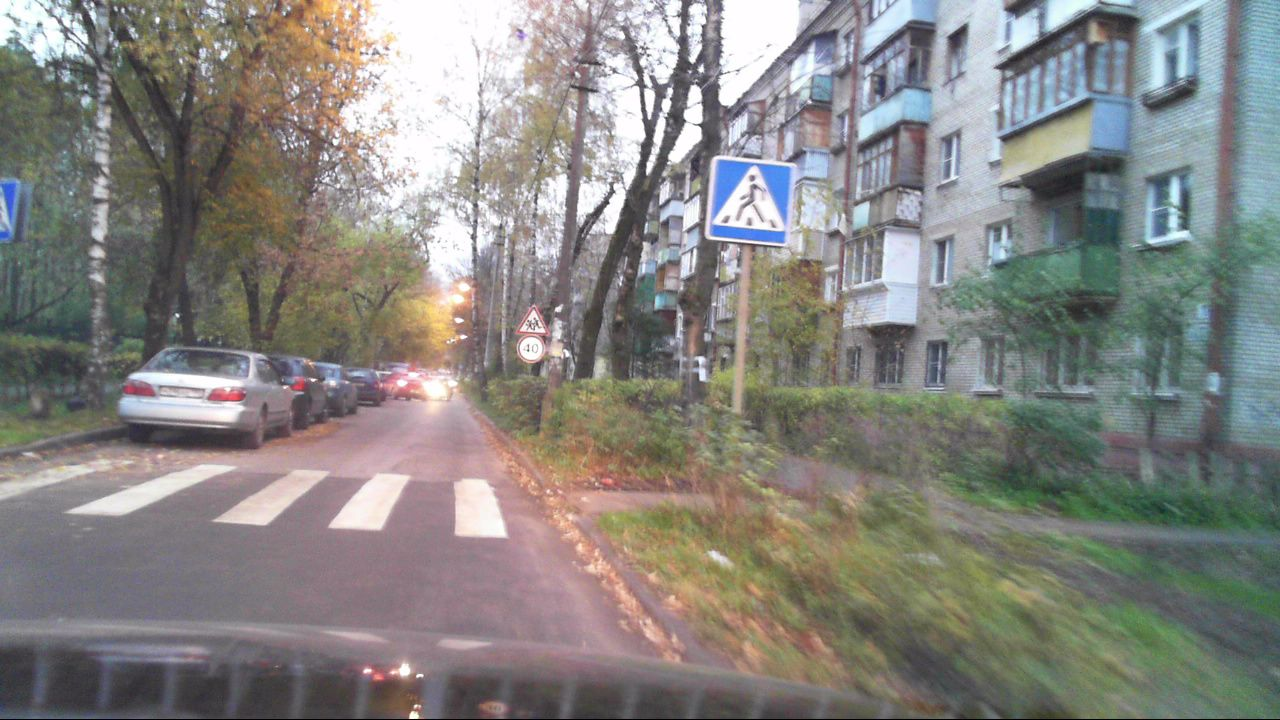speed_warning_40: (516, 335, 545, 362)
